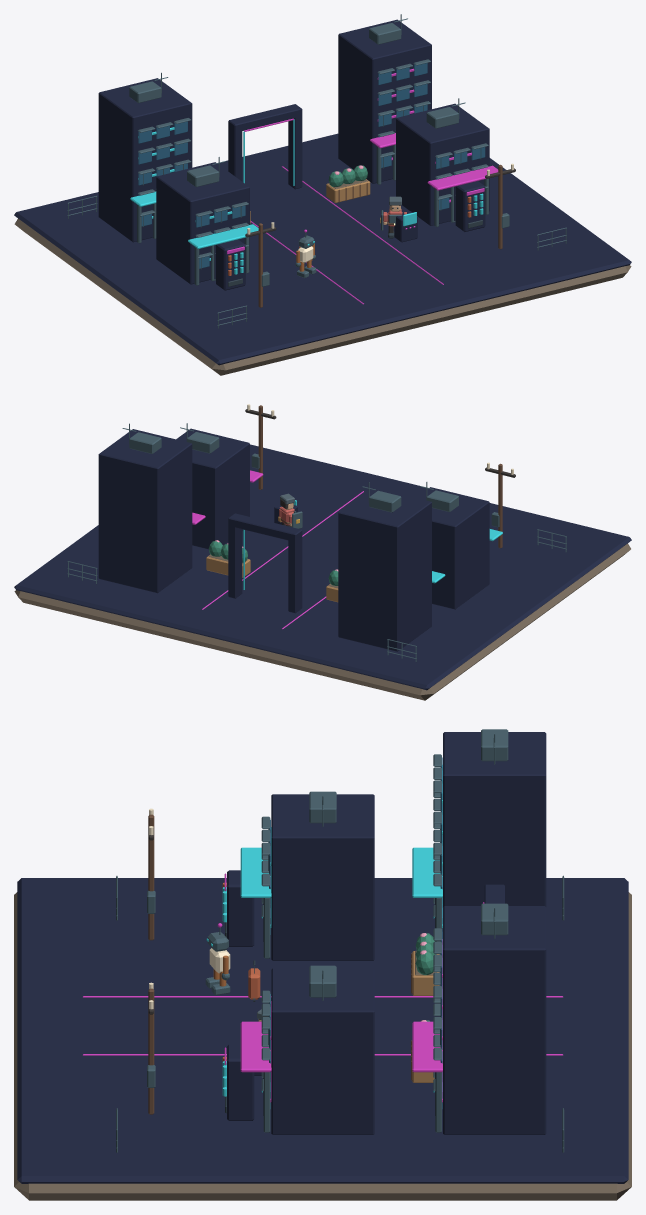
Rendered from world-cyber.glb.
3 renders of one model, top to bottom at view 1: azimuth 30°, elevation 25°; view 2: azimuth 150°, elevation 25°; view 3: azimuth 270°, elevation 25°, orthographic. The views are drawn at different scales.
Parts seen in each view (by area): view 1: terrain-top, city-tower.001, city-tower.003, terrain-stratum, city-tower, city-tower.002, vending-body.002, vending-body.001, portal-pillar.003, portal-lintel.001, shopfront-awning, shopfront-awning.002 (+6 smaller); view 2: terrain-top, city-tower.003, city-tower.001, terrain-stratum, city-tower, city-tower.002, portal-pillar.002, portal-pillar.003, portal-lintel.001, rooftop-ac.001, rooftop-ac.003, rooftop-ac.002 (+2 smaller); view 3: terrain-top, city-tower.003, city-tower.001, city-tower, city-tower.002, terrain-stratum, vending-body.002, vending-body.001, shopfront-awning.002, shopfront-awning.003, shopfront-awning, shopfront-awning.001 (+6 smaller).
Boxes of the visible parts, x1,y1,x2,y2 form: terrain-top: [14, 133, 631, 365]; city-tower.001: [98, 78, 192, 242]; city-tower.003: [338, 19, 431, 183]; terrain-stratum: [14, 218, 631, 375]; city-tower: [156, 162, 249, 284]; city-tower.002: [396, 103, 489, 225]; vending-body.002: [455, 181, 485, 231]; vending-body.001: [216, 239, 245, 290]; portal-pillar.003: [288, 114, 302, 189]; portal-lintel.001: [228, 104, 302, 132]; shopfront-awning: [188, 224, 258, 249]; shopfront-awning.002: [427, 165, 498, 190]; terrain-top: [14, 444, 631, 690]; city-tower.003: [98, 429, 192, 593]; city-tower.001: [338, 487, 431, 651]; terrain-stratum: [14, 543, 630, 700]; city-tower: [416, 487, 489, 609]; city-tower.002: [176, 428, 249, 549]; portal-pillar.002: [288, 535, 302, 613]; portal-pillar.003: [228, 523, 242, 598]; portal-lintel.001: [228, 513, 302, 541]; rooftop-ac.001: [369, 490, 401, 512]; rooftop-ac.003: [129, 432, 161, 453]; rooftop-ac.002: [187, 432, 219, 453]; terrain-top: [17, 878, 628, 1183]; city-tower.003: [443, 906, 546, 1134]; city-tower.001: [443, 732, 546, 906]; city-tower: [271, 794, 374, 960]; city-tower.002: [271, 968, 374, 1134]; terrain-stratum: [14, 892, 631, 1200]; vending-body.002: [227, 1044, 254, 1120]; vending-body.001: [227, 870, 254, 946]; shopfront-awning.002: [240, 1021, 271, 1072]; shopfront-awning.003: [412, 1021, 442, 1072]; shopfront-awning: [240, 847, 271, 897]; shopfront-awning.001: [412, 847, 442, 897].
Bounding box in the file's own units: 21 × 7.89 × 18.
